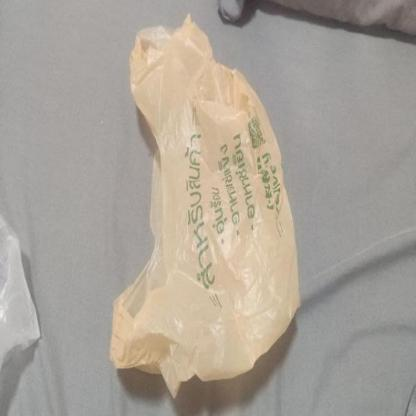Plastic Bag: (110, 15, 302, 393)
